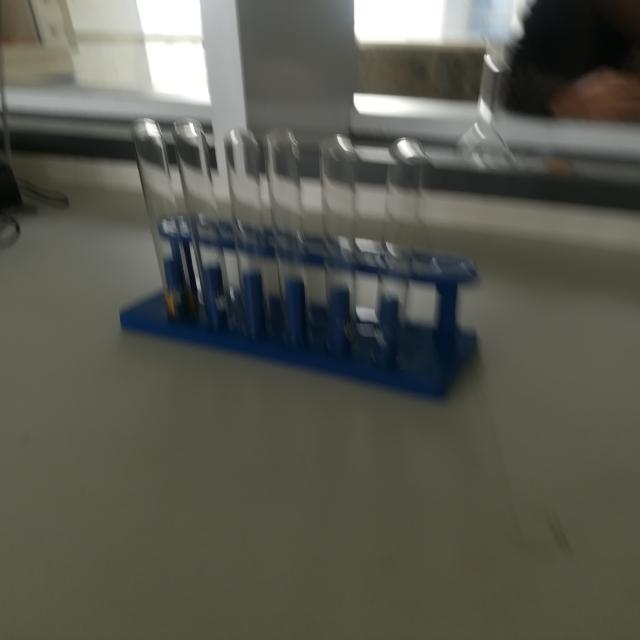Test_Tube: (84, 84, 446, 393)
